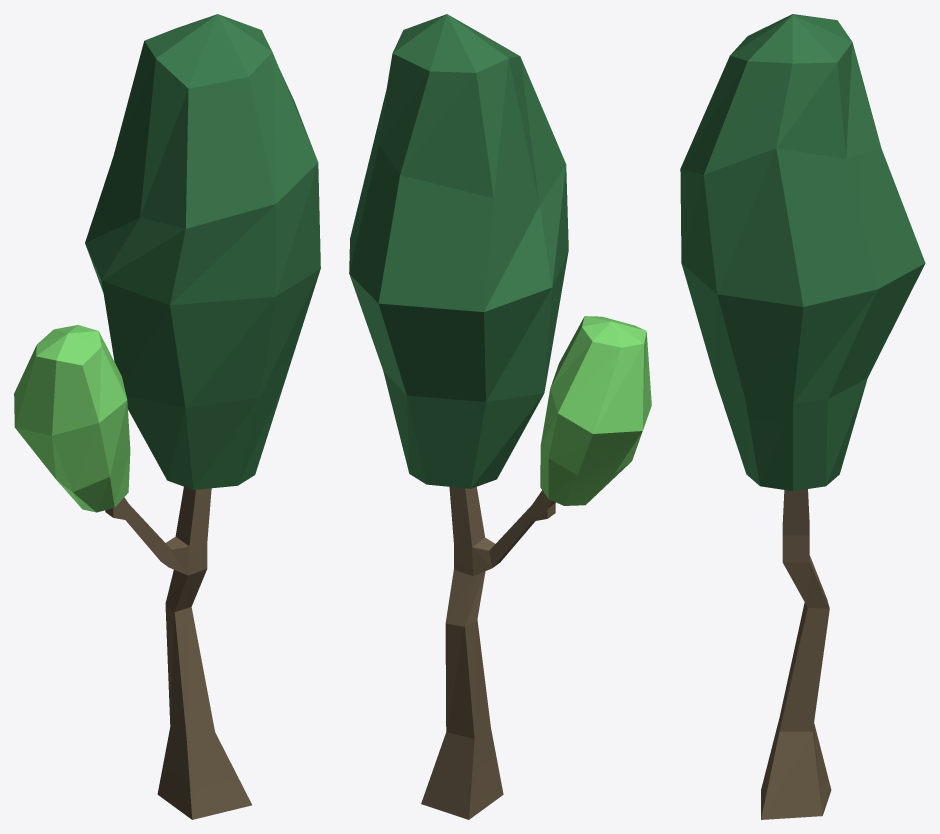
Rendered from Birch_C.fbx.
3 renders of one model, left to right at view 1: azimuth 30°, elevation 25°; view 2: azimuth 150°, elevation 25°; view 3: azimuth 270°, elevation 25°, orthographic.
Visible parts, largest first — view 1: Birch_C; view 2: Birch_C; view 3: Birch_C.
Boxes of the visible parts, box(x1,y1,x2,y2) form: Birch_C: box(14, 14, 320, 819); Birch_C: box(349, 14, 651, 819); Birch_C: box(680, 14, 925, 819).
Size of the model in its own units: 118 by 303 by 84.45.
